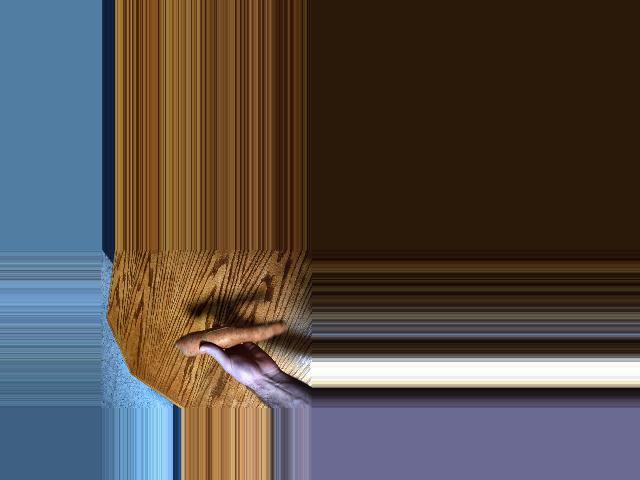sweet_potato: (177, 325, 286, 346)
